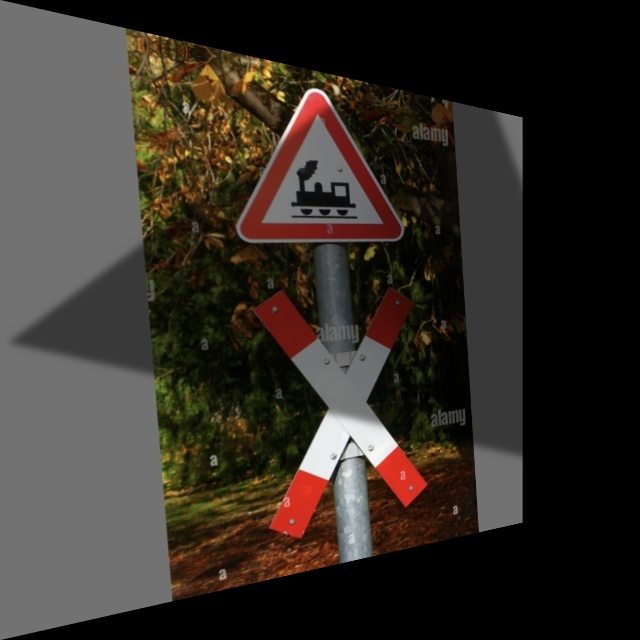Unguarded_Level_Crossing: (243, 87, 403, 252)
